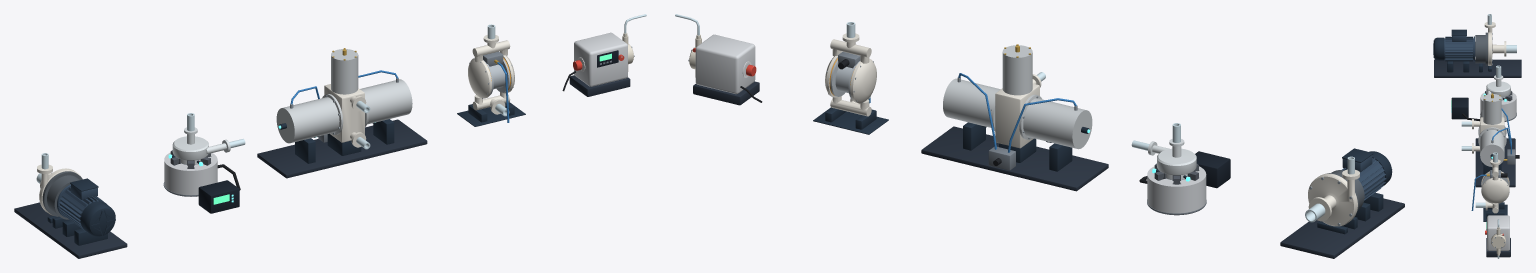
The model's file is pumps.glb.
The picture shows the model from 3 angles, left to right: view 1: azimuth 30°, elevation 25°; view 2: azimuth 150°, elevation 25°; view 3: azimuth 270°, elevation 25°; orthographic projection. The views are drawn at different scales.
Parts seen in each view (by area): view 1: P3_Base, P3_CaseL, P1_Motor, P5_Housing, P1_Base, P3_CaseR, P2_Housing, P3_Head, P3_Feet, P2_Controller, P3_Damper, P2_Head (+9 smaller); view 2: P3_Base, P5_Housing, P3_CaseL, P1_Base, P2_Housing, P1_Casing, P3_CaseR, P3_Head, P3_Damper, P3_Feet, P1_Motor, P2_Head (+11 smaller); view 3: P1_Base, P1_Motor, P3_CaseR, P3_Base, P5_Housing, P4_CapR, P3_Damper, P2_Controller, P1_Casing, P1_Bracket, P2_Housing, P2_Head (+18 smaller).
Boxes of the visible parts, x1=… form: P3_Base: x1=257, y1=119, x2=427, y2=178; P3_CaseL: x1=276, y1=94, x2=343, y2=143; P1_Motor: x1=57, y1=178, x2=115, y2=236; P5_Housing: x1=574, y1=32, x2=627, y2=86; P1_Base: x1=14, y1=202, x2=127, y2=258; P3_CaseR: x1=360, y1=78, x2=412, y2=126; P2_Housing: x1=163, y1=152, x2=217, y2=196; P3_Head: x1=324, y1=84, x2=366, y2=147; P3_Feet: x1=295, y1=119, x2=394, y2=163; P2_Controller: x1=198, y1=164, x2=240, y2=213; P3_Damper: x1=331, y1=48, x2=358, y2=94; P2_Head: x1=172, y1=127, x2=230, y2=164; P3_Base: x1=921, y1=126, x2=1108, y2=191; P5_Housing: x1=695, y1=34, x2=755, y2=93; P3_CaseL: x1=1019, y1=94, x2=1092, y2=149; P1_Base: x1=1280, y1=198, x2=1404, y2=258; P2_Housing: x1=1147, y1=166, x2=1206, y2=215; P1_Casing: x1=1308, y1=169, x2=1359, y2=226; P3_CaseR: x1=943, y1=77, x2=1000, y2=131; P3_Head: x1=995, y1=74, x2=1041, y2=148; P3_Damper: x1=1002, y1=44, x2=1032, y2=95; P3_Feet: x1=963, y1=122, x2=1072, y2=171; P1_Motor: x1=1342, y1=148, x2=1392, y2=200; P2_Head: x1=1148, y1=139, x2=1196, y2=179; P1_Base: x1=1434, y1=59, x2=1521, y2=77; P1_Motor: x1=1433, y1=29, x2=1475, y2=61; P3_CaseR: x1=1478, y1=127, x2=1506, y2=166; P3_Base: x1=1475, y1=138, x2=1515, y2=187; P5_Housing: x1=1487, y1=215, x2=1509, y2=250; P4_CapR: x1=1481, y1=178, x2=1509, y2=203; P3_Damper: x1=1483, y1=93, x2=1501, y2=124; P2_Controller: x1=1451, y1=97, x2=1479, y2=121; P1_Casing: x1=1484, y1=22, x2=1506, y2=65; P1_Bracket: x1=1475, y1=32, x2=1487, y2=65; P2_Housing: x1=1480, y1=92, x2=1516, y2=121; P2_Head: x1=1486, y1=75, x2=1510, y2=100.
Bounding box in the file's own units: 3.14 × 0.498 × 0.5745.
